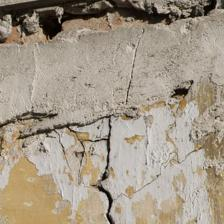Crack: (24, 43, 128, 153), (37, 55, 70, 140), (47, 11, 78, 97), (31, 52, 59, 103), (59, 45, 84, 100), (56, 85, 84, 125), (43, 153, 73, 180)
